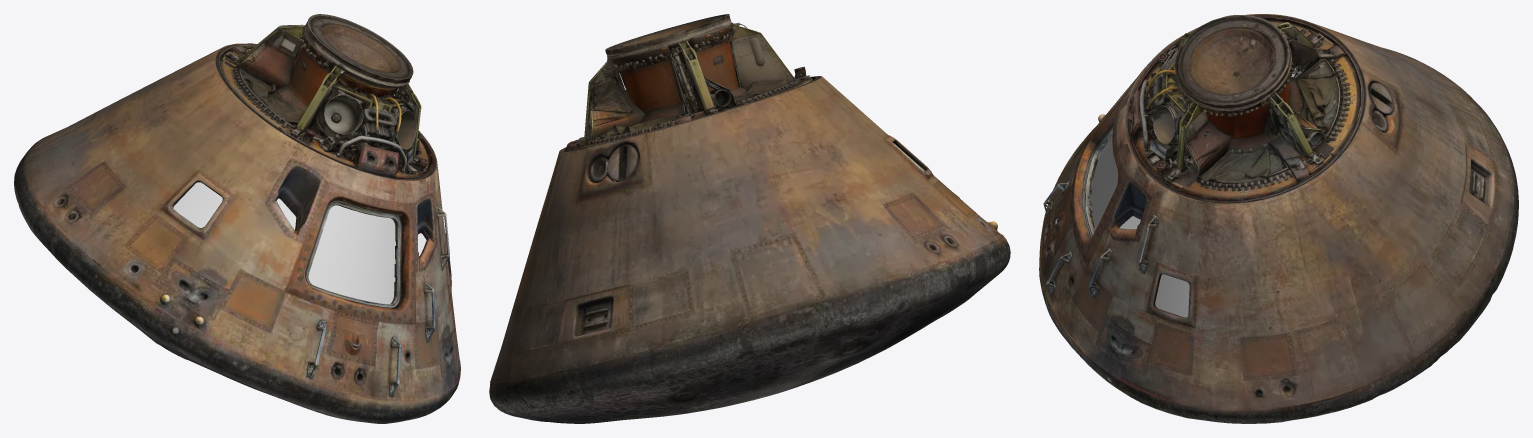
File: columbia.glb
The picture shows the model from 3 angles, left to right: view 1: azimuth 30°, elevation 25°; view 2: azimuth 150°, elevation 25°; view 3: azimuth 270°, elevation 25°; orthographic projection. The views are drawn at different scales.
Visible parts, largest first — view 1: x3d-cm-exterior-shell-90k-uvs-150k-unwrapped, x3d-cm-exterior-top-160k-uvs-150k-unwrapped, x3d-cm-exterior-filler; view 2: x3d-cm-exterior-shell-90k-uvs-150k-unwrapped, x3d-cm-exterior-top-160k-uvs-150k-unwrapped; view 3: x3d-cm-exterior-shell-90k-uvs-150k-unwrapped, x3d-cm-exterior-top-160k-uvs-150k-unwrapped, x3d-cm-exterior-filler.
Boxes of the visible parts, bbox=[...] form: x3d-cm-exterior-shell-90k-uvs-150k-unwrapped: bbox=[14, 43, 460, 423]; x3d-cm-exterior-top-160k-uvs-150k-unwrapped: bbox=[216, 14, 434, 180]; x3d-cm-exterior-filler: bbox=[173, 182, 426, 304]; x3d-cm-exterior-shell-90k-uvs-150k-unwrapped: bbox=[489, 76, 1010, 423]; x3d-cm-exterior-top-160k-uvs-150k-unwrapped: bbox=[562, 14, 818, 151]; x3d-cm-exterior-shell-90k-uvs-150k-unwrapped: bbox=[1039, 14, 1518, 423]; x3d-cm-exterior-top-160k-uvs-150k-unwrapped: bbox=[1127, 15, 1364, 203]; x3d-cm-exterior-filler: bbox=[1091, 137, 1189, 317].
Size of the model in its own units: 359 by 314 by 387.
Materials: 3 (2 with a texture image).
